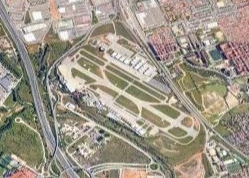airport: (54, 32, 200, 146)
industrial: (15, 1, 116, 35)
motorway: (18, 49, 43, 90), (42, 127, 65, 169), (1, 12, 25, 52), (30, 89, 50, 129), (91, 162, 148, 174), (124, 19, 145, 42), (140, 43, 161, 66), (156, 66, 177, 89), (173, 88, 194, 111), (195, 112, 216, 135), (109, 132, 132, 148), (132, 146, 155, 162), (63, 105, 85, 119), (85, 118, 107, 131)
